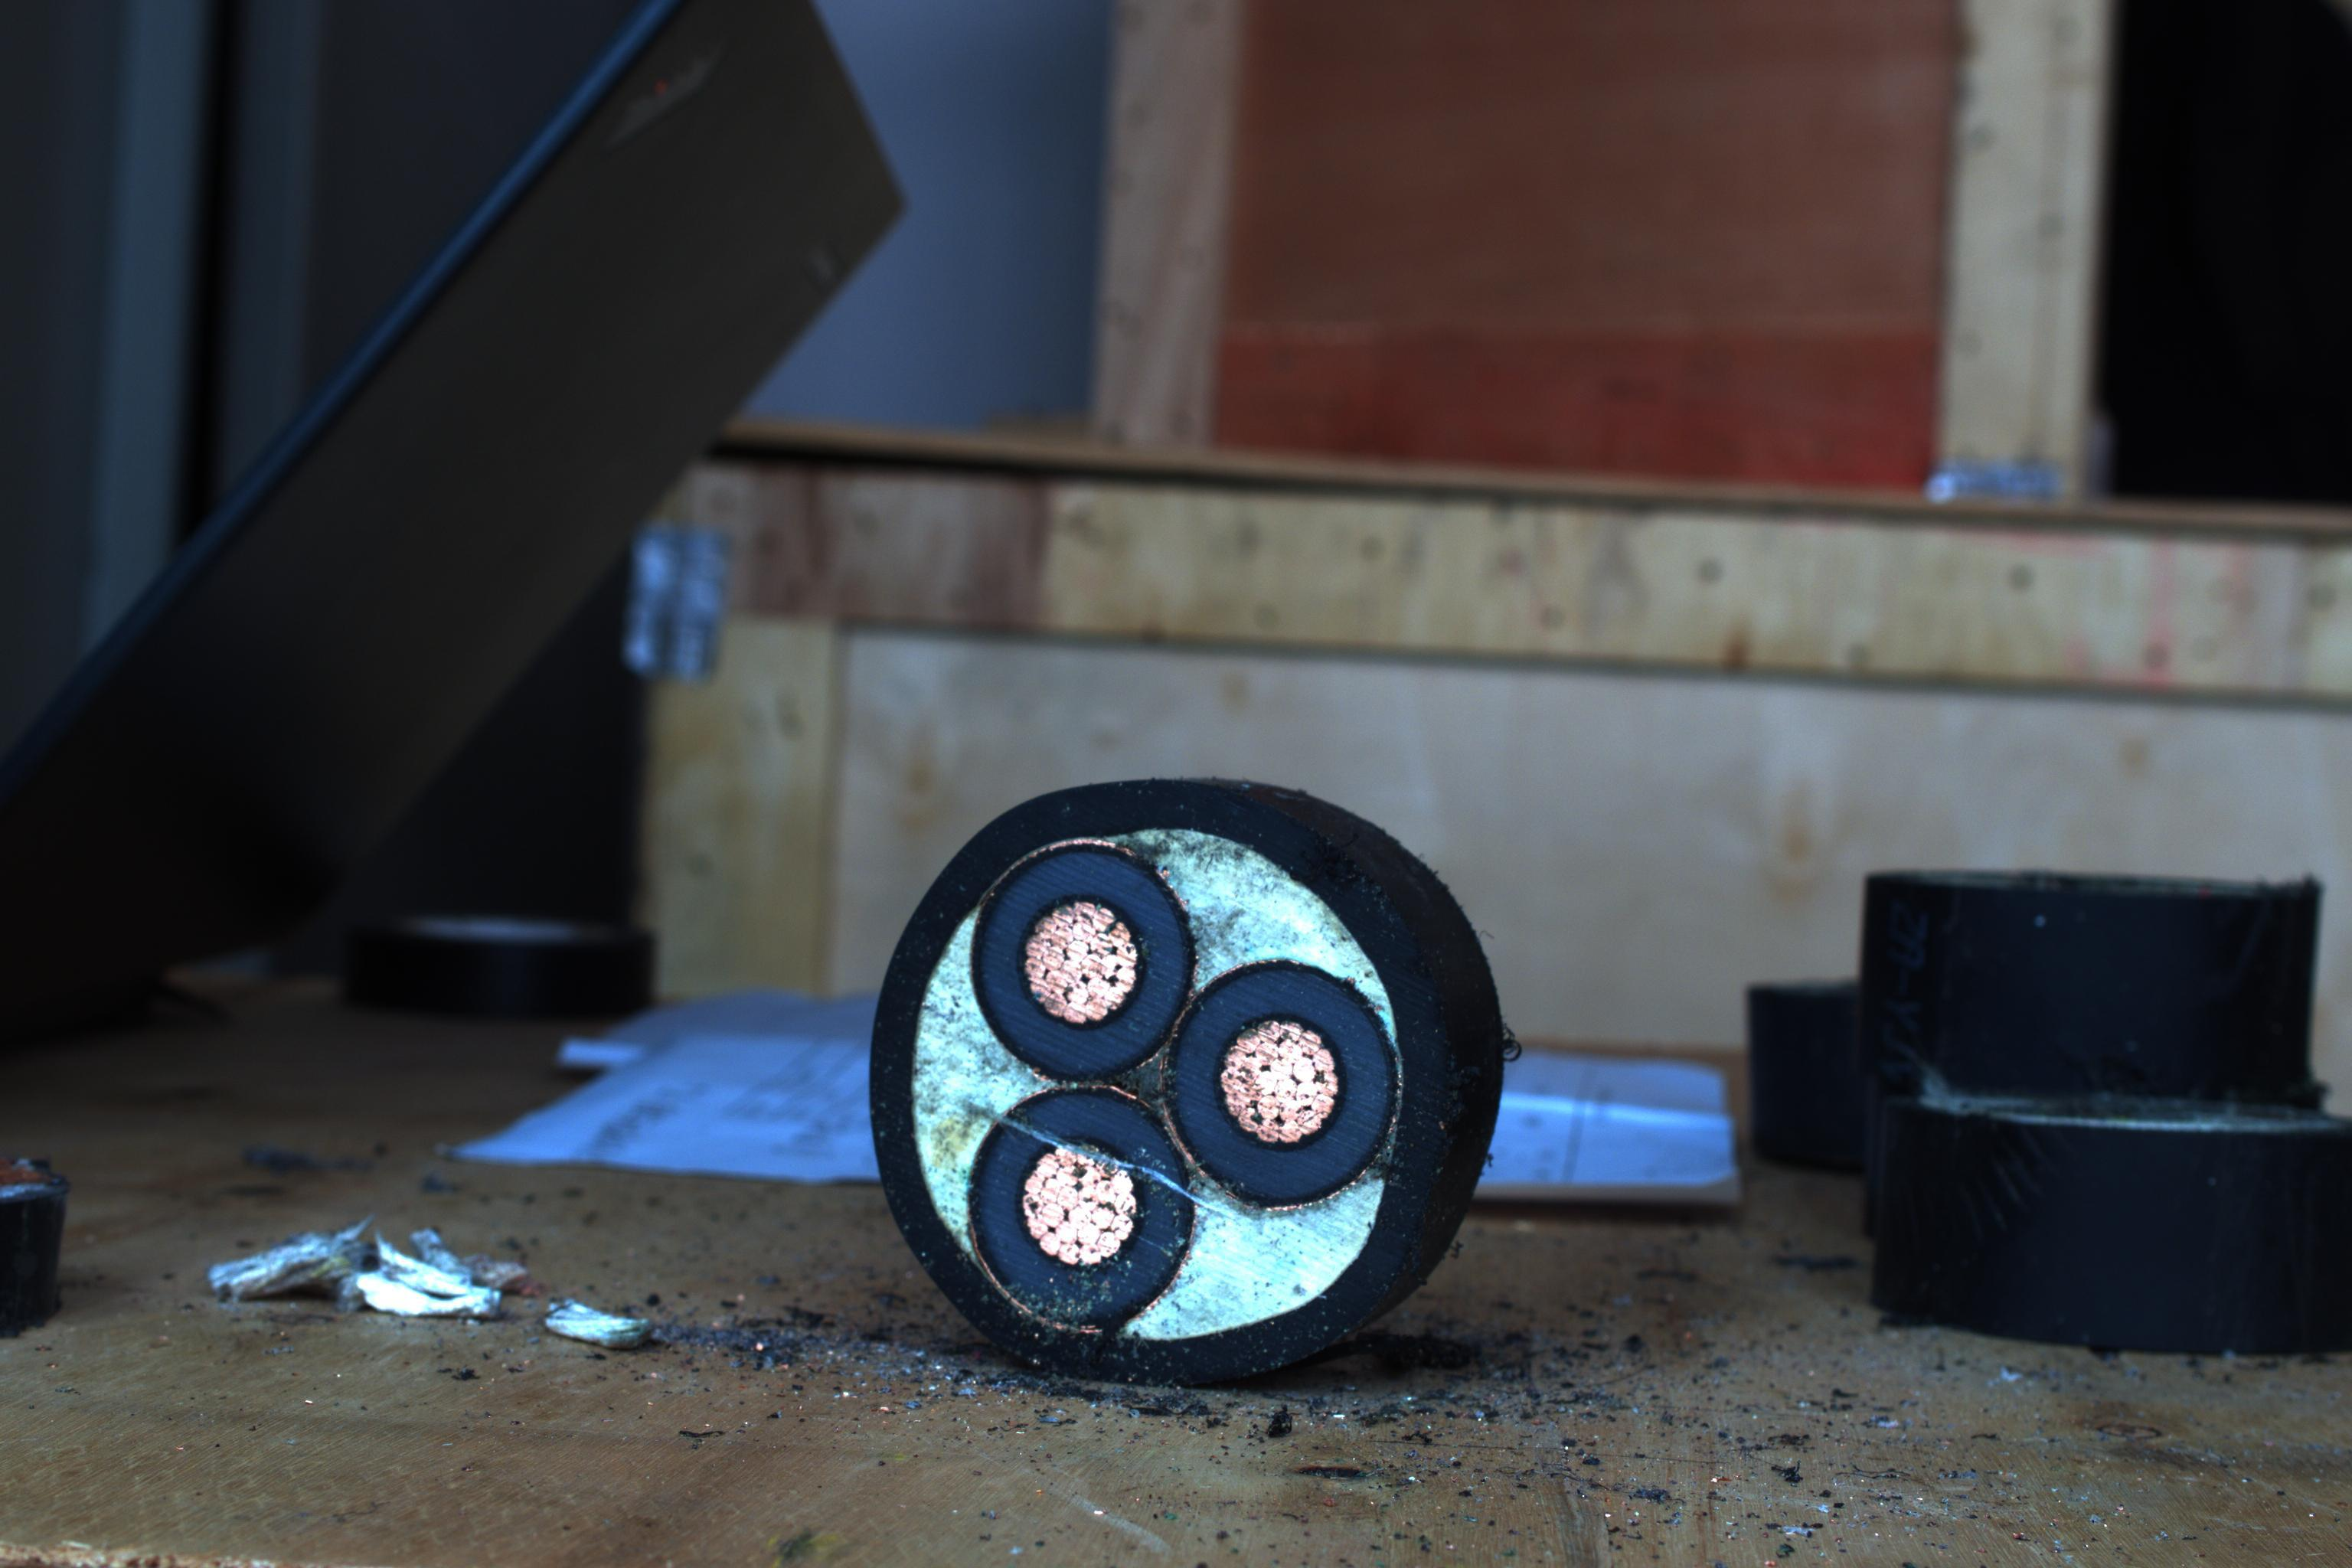ZA_YJV_8.7_10kV_3x120: (866, 796, 1458, 1368)
